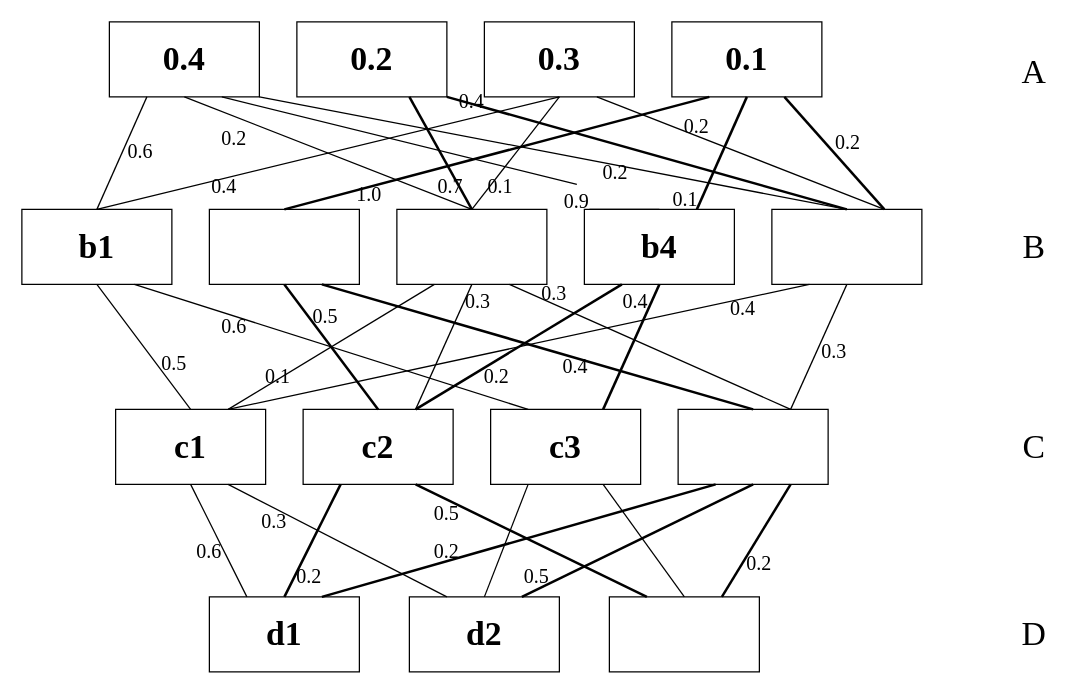
Image size: 1081x694. Some labels were removed from this diagram. Here are the shapes that lost their labels. From the top down, the centre of each, then its label:
At (x=283, y=246): "b2".
At (x=471, y=246): "b3".
At (x=846, y=246): "b5".
At (x=752, y=446): "c4".
At (x=683, y=634): "d3".
